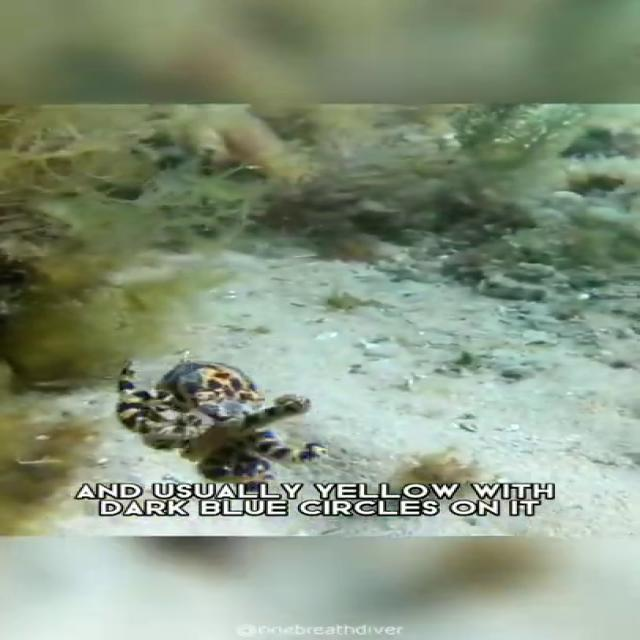octopus: (117, 348, 330, 492)
